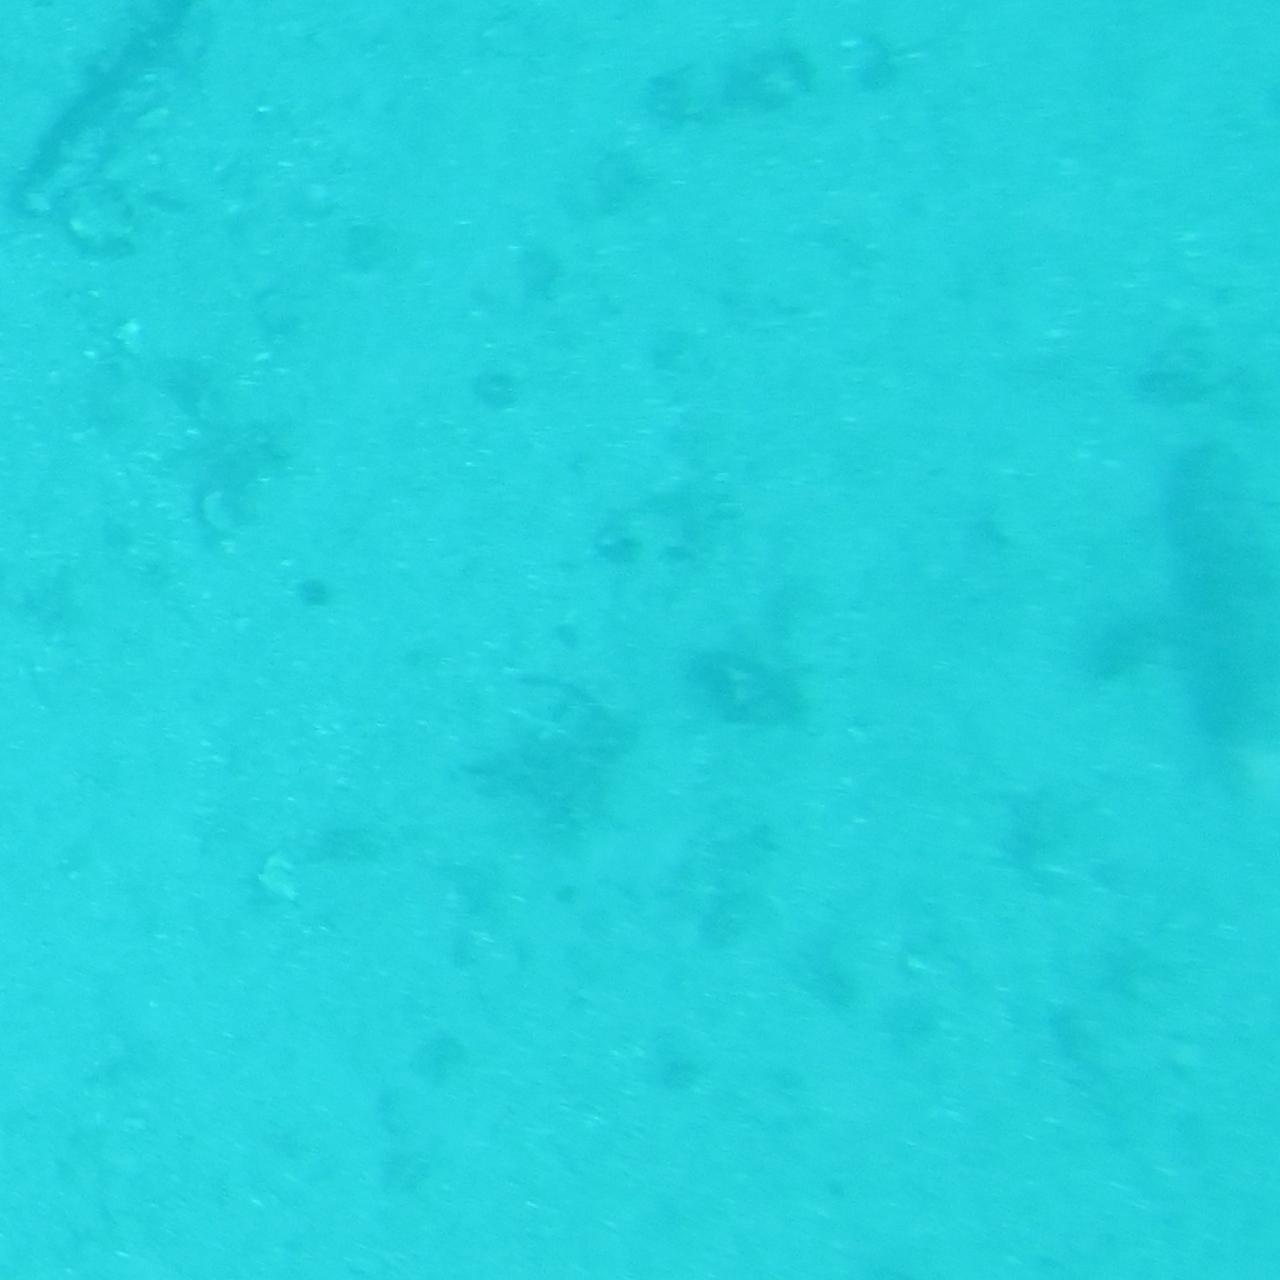Holothuria tubulosa: (1157, 436, 1279, 844)
